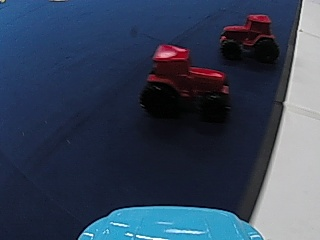tractor: (140, 39, 226, 120), (218, 12, 280, 63)
